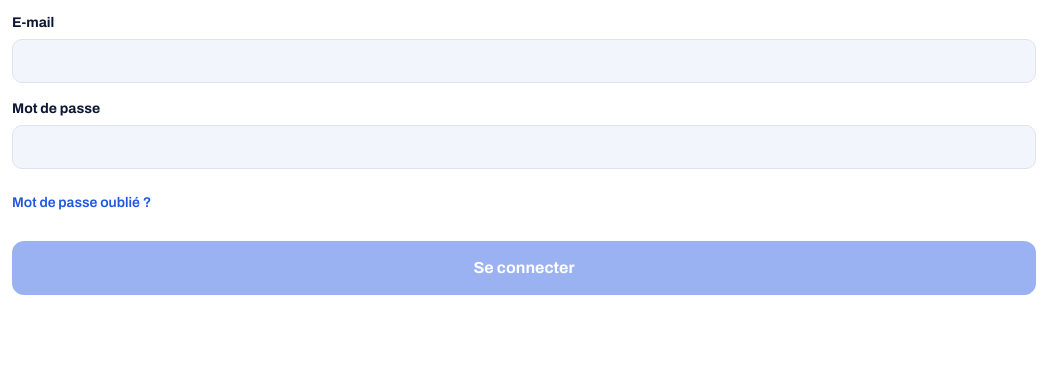
LoginForm › échec : message générique ; mot de passe oublié
The width and height of the screenshot is (1048, 372).
Click the button "Mot de passe oublié ?" at (82, 203), box 12,181 -> 151,225
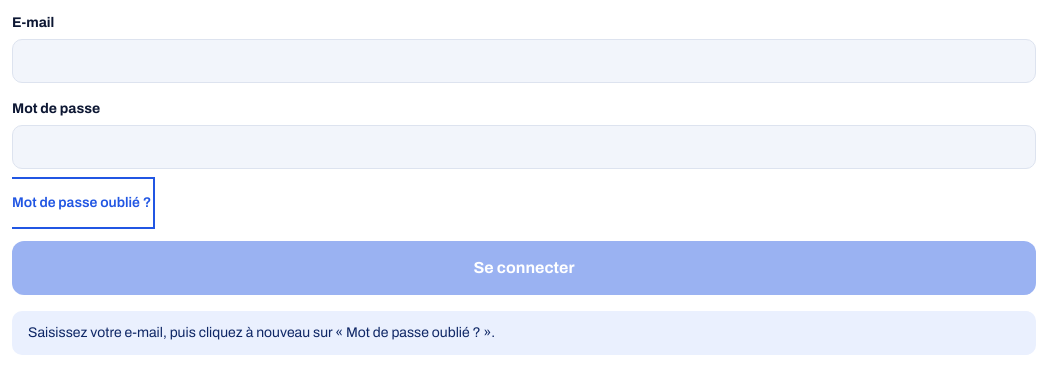
Expected: the message shows "Saisissez votre e-mail", 28,325 -> 495,340
Type "admin@exemple.fr" into the field labelled "E-mail" at (524, 61), box 12,39 -> 1036,83
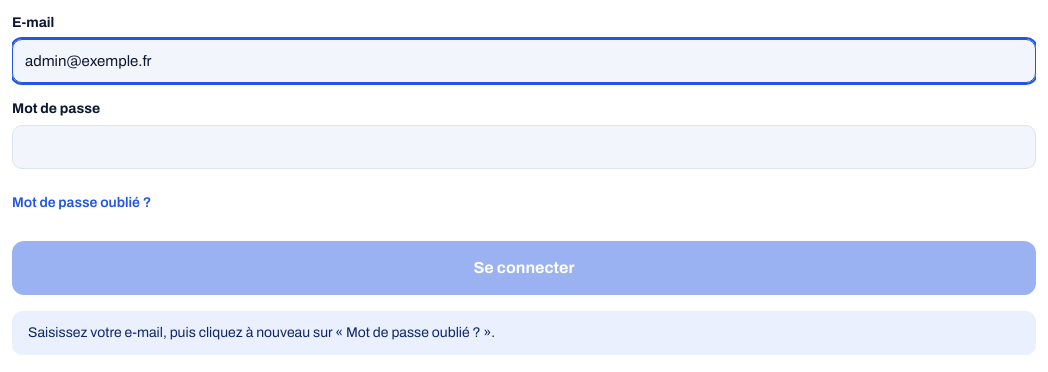
Type "x" into the password field labelled "Mot de passe" at (524, 147), box 12,125 -> 1036,169
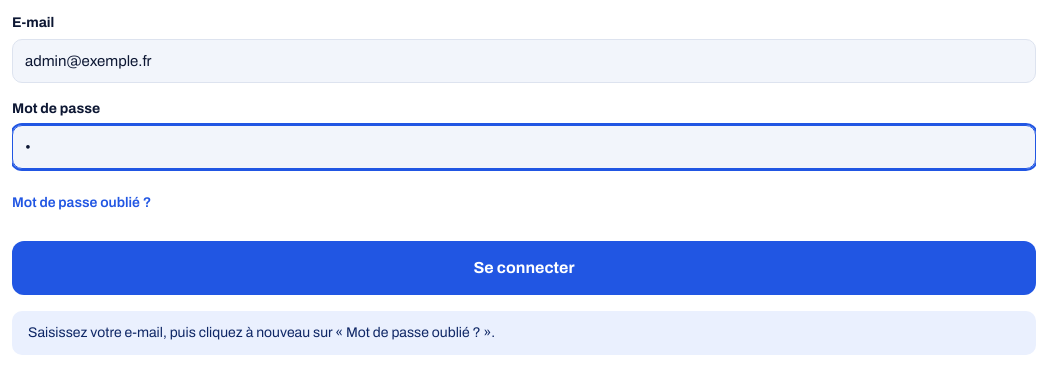
Click the button "Se connecter" at (524, 268), box 12,241 -> 1036,295
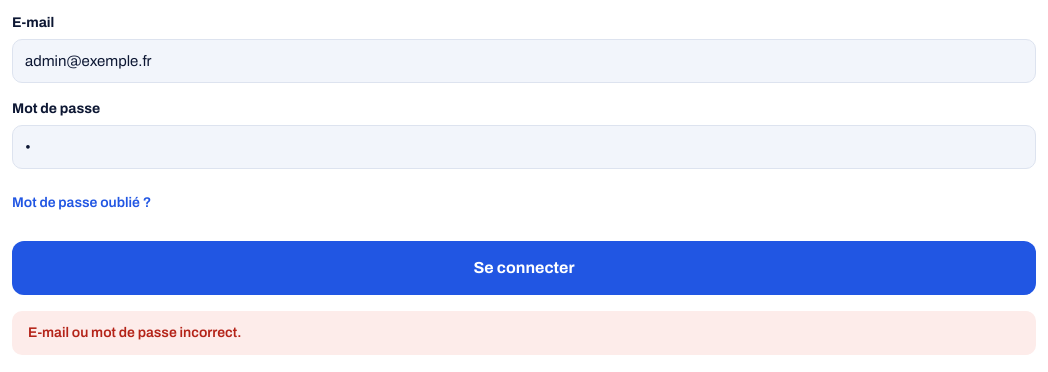
Expected: the message reads "E-mail ou mot de passe incorrect.", 28,325 -> 241,340
Click the button "Mot de passe oublié ?" at (82, 203), box 12,181 -> 151,225
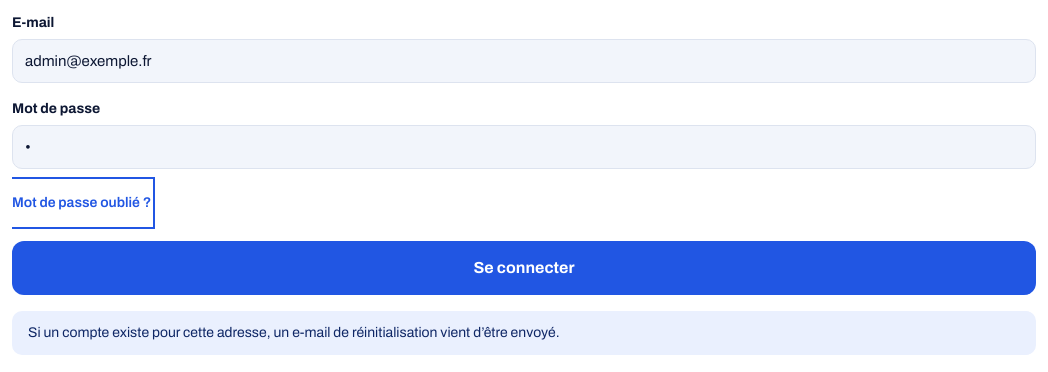
Expected: the message shows "Si un compte existe", 28,325 -> 560,340
